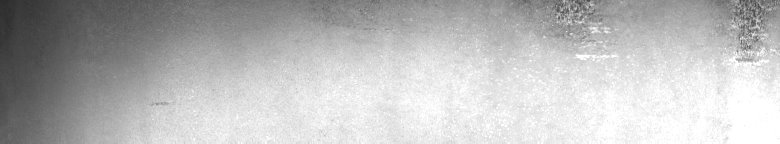hc: (724, 4, 776, 68)
